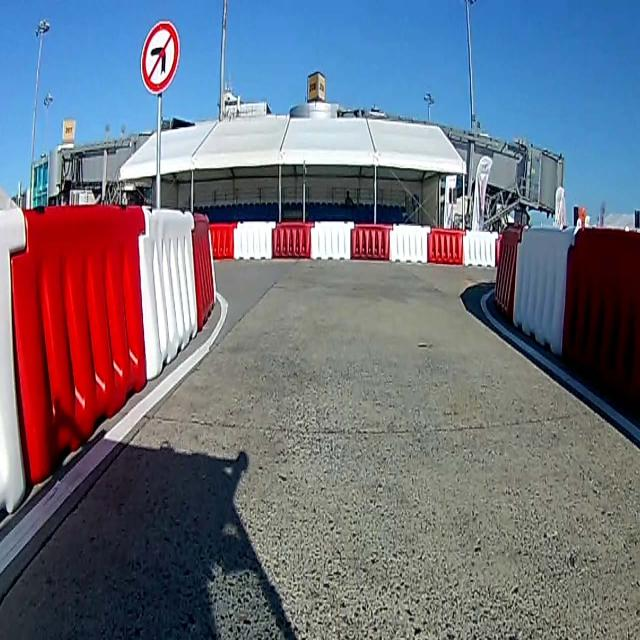soladonulmez: (138, 20, 180, 90)
